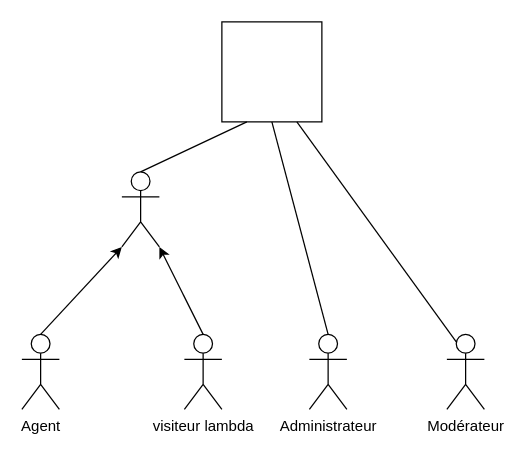
Some shapes in this 525 by 458 pixel diagram are drawn without their labels. Each missing label, with the box of its shape:
Actor: (121, 171, 159, 247)
Boite Noire: (221, 21, 322, 122)
